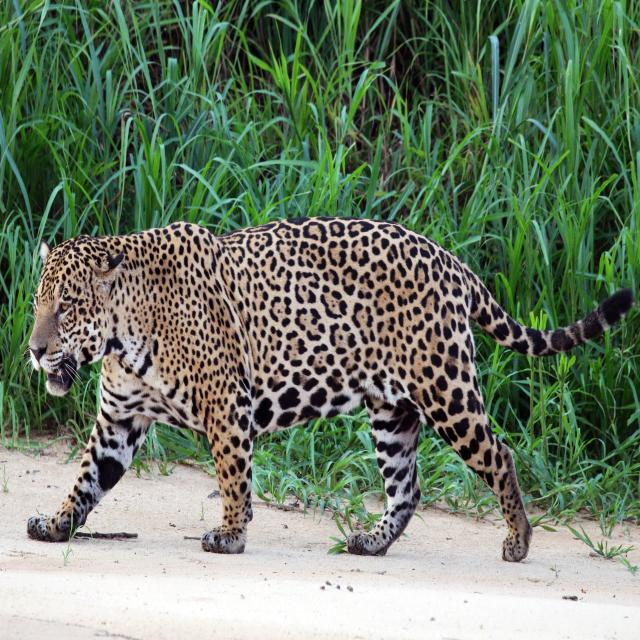Jaguar: (23, 230, 576, 622)
